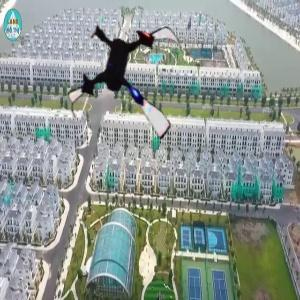drone: (61, 11, 199, 149)
